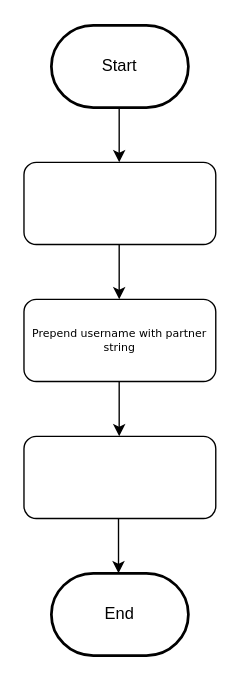
This 240x680 diagram has some shape labels left out. The centre of each missing label's shape, as x and y in pixels:
"Get username of selected partner" goes at point (119, 203).
"Send to server using transmission's streamWrite" goes at point (119, 477).
